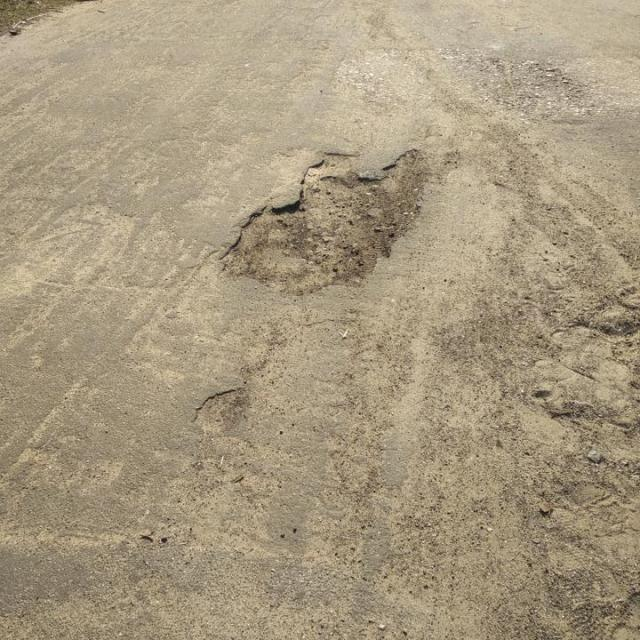Pothole: (215, 146, 433, 298), (192, 385, 250, 438)
